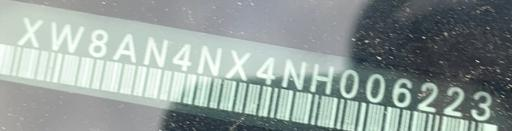letter: (50, 20, 84, 55), (280, 56, 308, 91), (195, 43, 223, 78), (141, 34, 169, 67), (17, 15, 43, 48), (225, 48, 251, 81), (310, 61, 334, 94), (113, 31, 137, 64), (390, 75, 412, 110), (365, 72, 387, 105), (416, 80, 438, 113), (442, 85, 464, 118), (470, 90, 492, 121), (88, 27, 108, 60), (338, 68, 358, 100), (171, 42, 193, 71), (256, 56, 276, 85)
